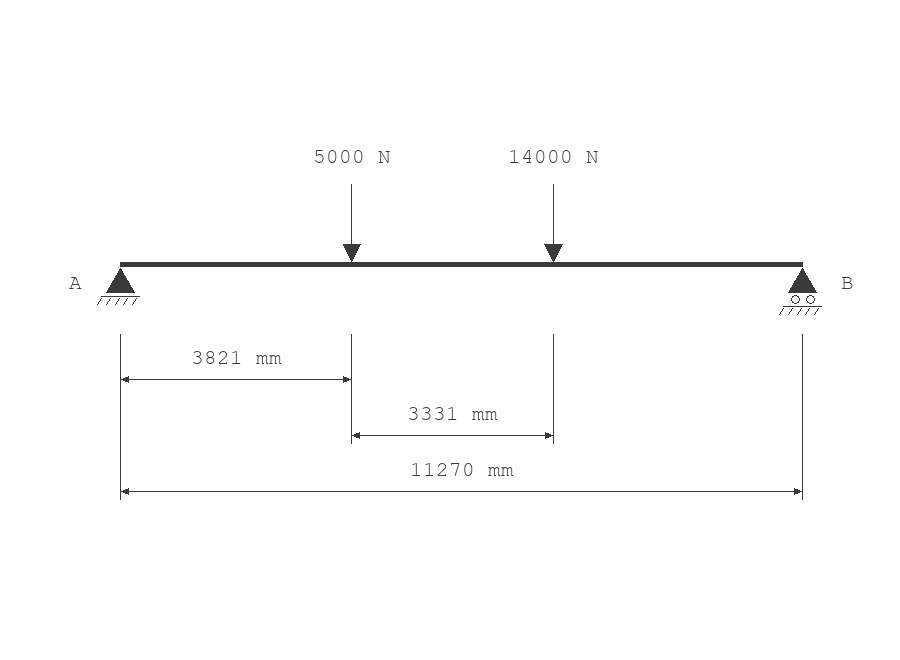pin_support: (97, 268, 140, 305)
point_load: (544, 184, 563, 262), (343, 184, 361, 262)
roller_support: (779, 268, 822, 315)
